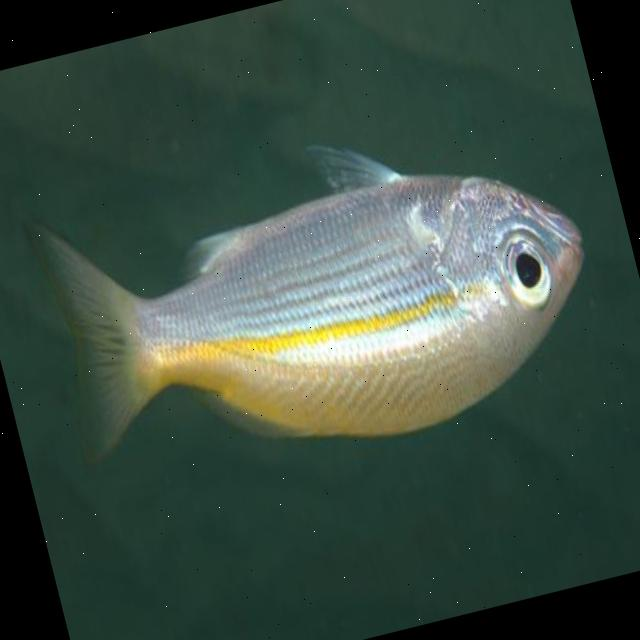ikan: (21, 83, 620, 516)
